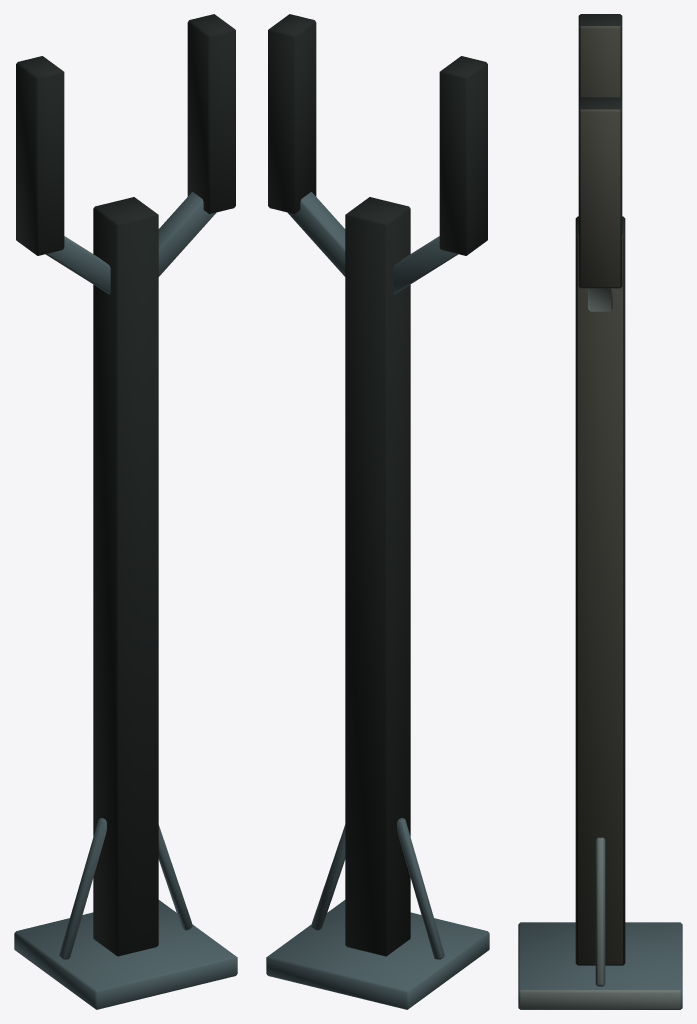
The model's file is anchor_mast.glb.
3 renders of one model, left to right at view 1: azimuth 30°, elevation 25°; view 2: azimuth 150°, elevation 25°; view 3: azimuth 270°, elevation 25°, orthographic.
Visible parts, largest first — view 1: Hardware; view 2: Hardware; view 3: Hardware.
Boxes of the visible parts, box(x1,y1,x2,y2) form: Hardware: box(14, 14, 237, 1009); Hardware: box(266, 14, 489, 1009); Hardware: box(518, 14, 682, 1009).
Bounding box in the file's own units: 4.2 × 18.4 × 3.
